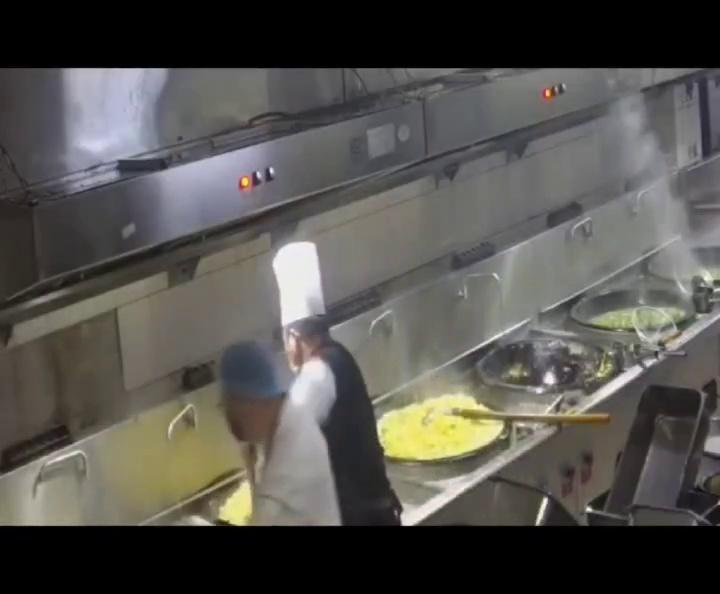gloves: (218, 344, 279, 402)
